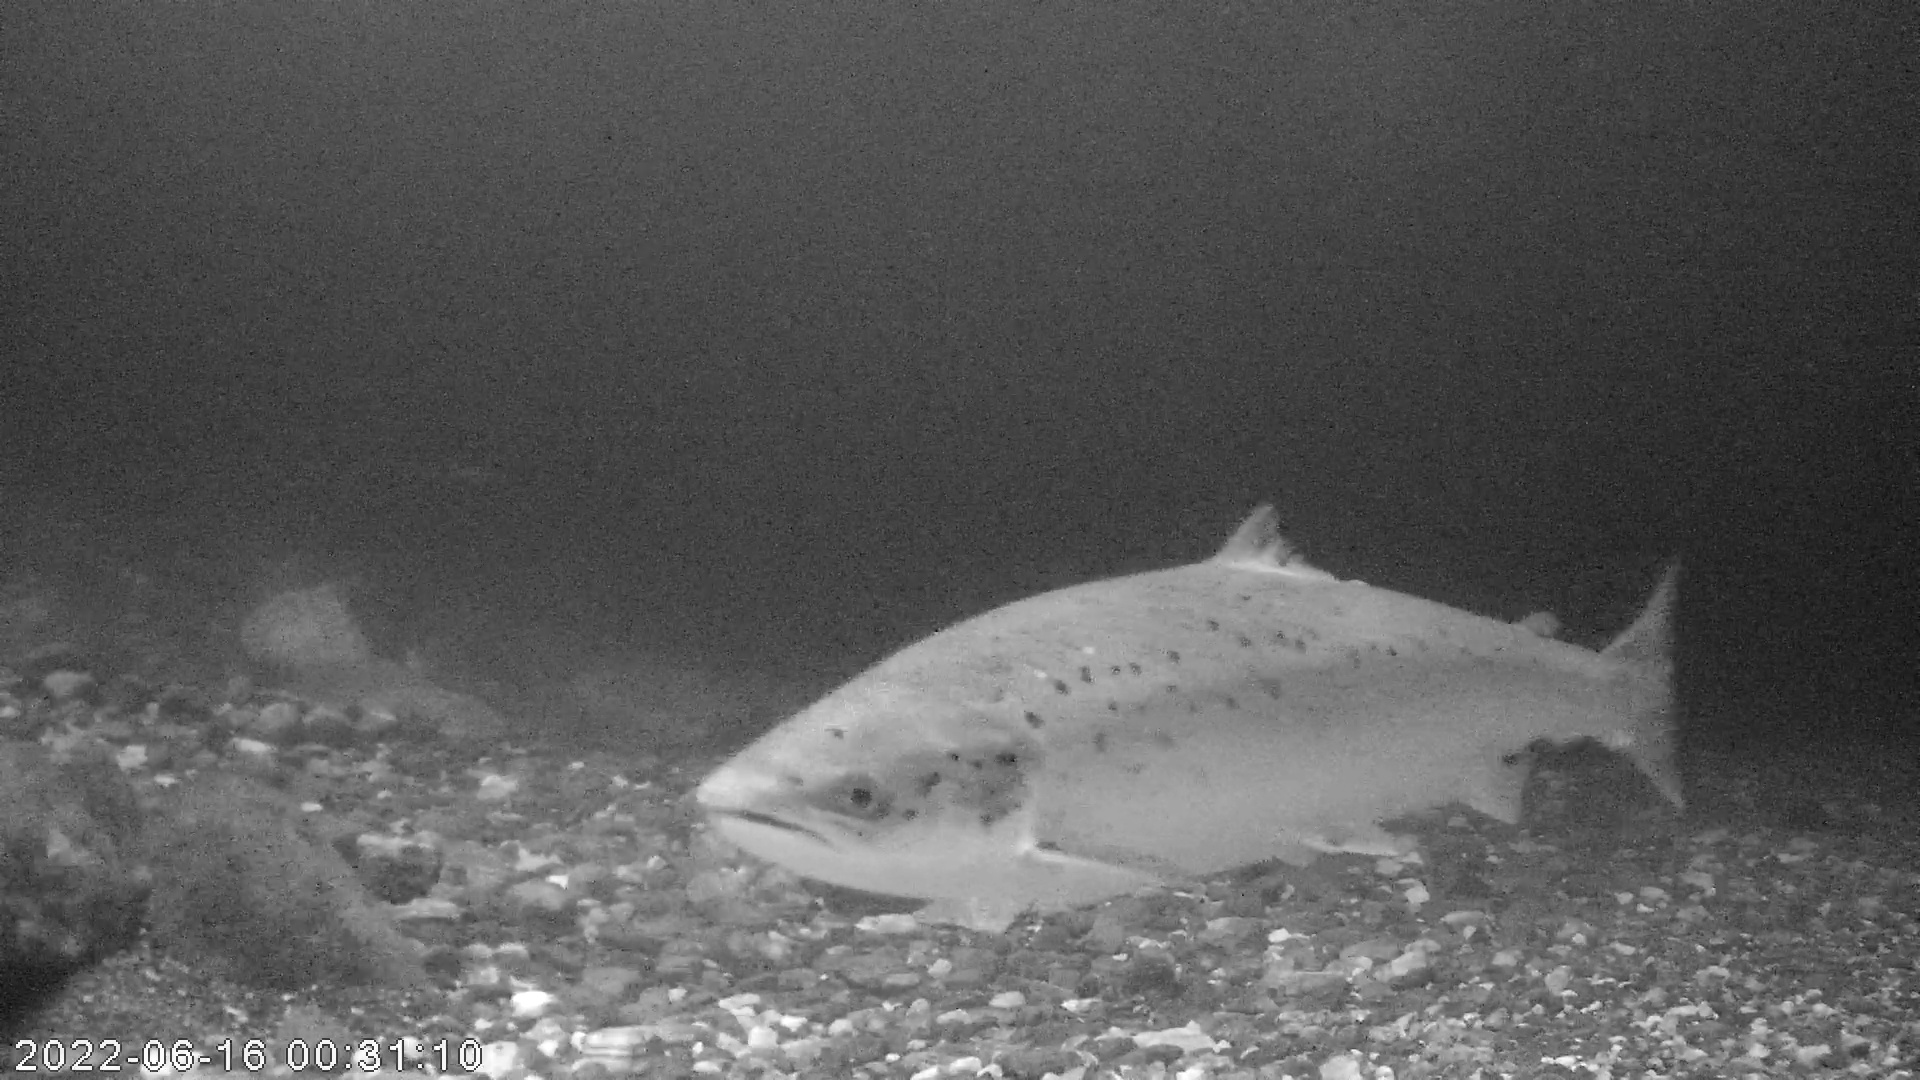salmon: (692, 498, 1693, 913)
